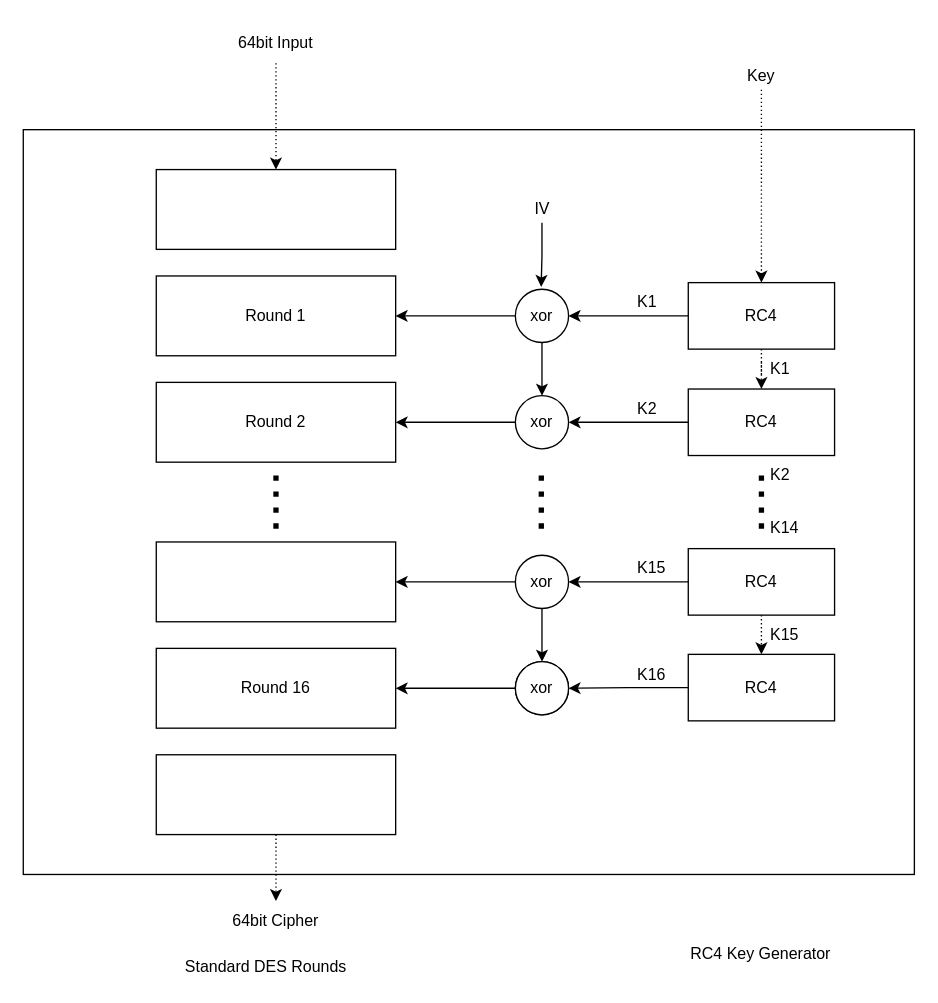
This 938x1003 diagram has some shape labels left out. Here are the shapes that lost their labels. From the top down, the box of each, then its label:
(155, 168, 396, 249): Initial Permutation
(155, 541, 396, 622): Round 15
(155, 753, 396, 835): Final Permutation
